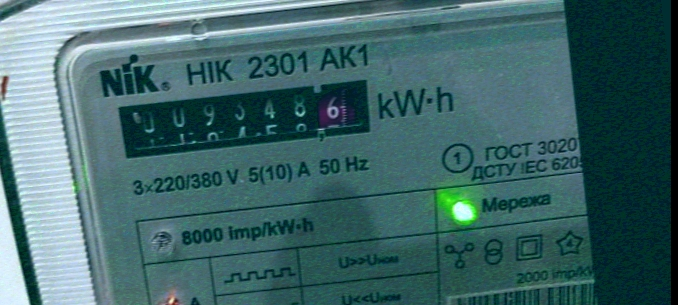0: (169, 104, 187, 129), (140, 108, 155, 135)
3: (230, 97, 247, 124)
4: (260, 93, 277, 122)
6: (322, 93, 342, 122)
8: (290, 91, 308, 121)
9: (199, 101, 217, 129)
screen: (107, 71, 382, 169)
